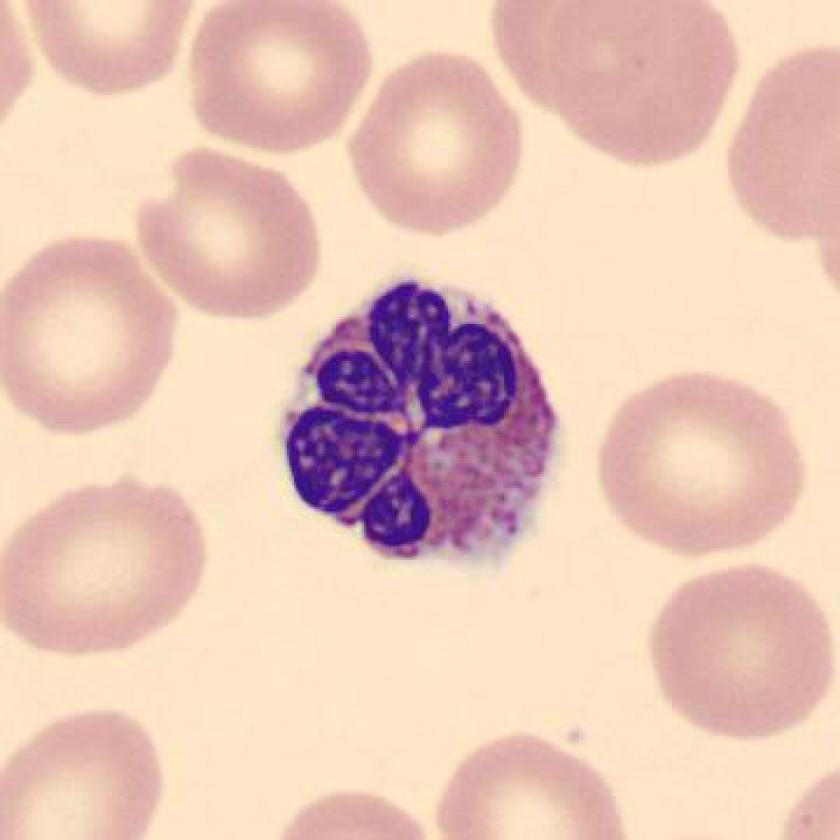eosinophil: (267, 265, 580, 582)
